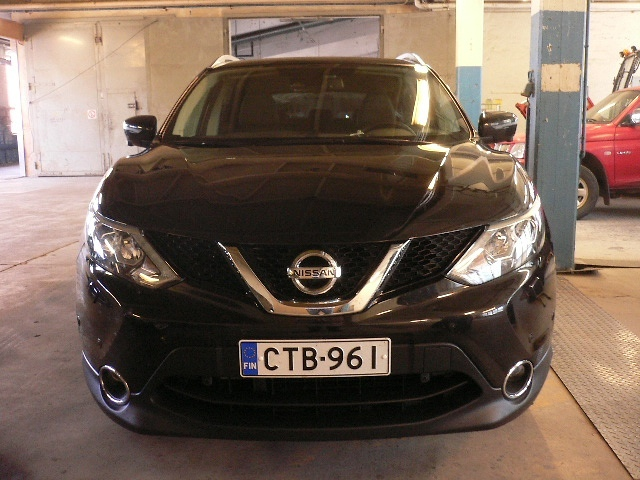license: (236, 336, 392, 382)
